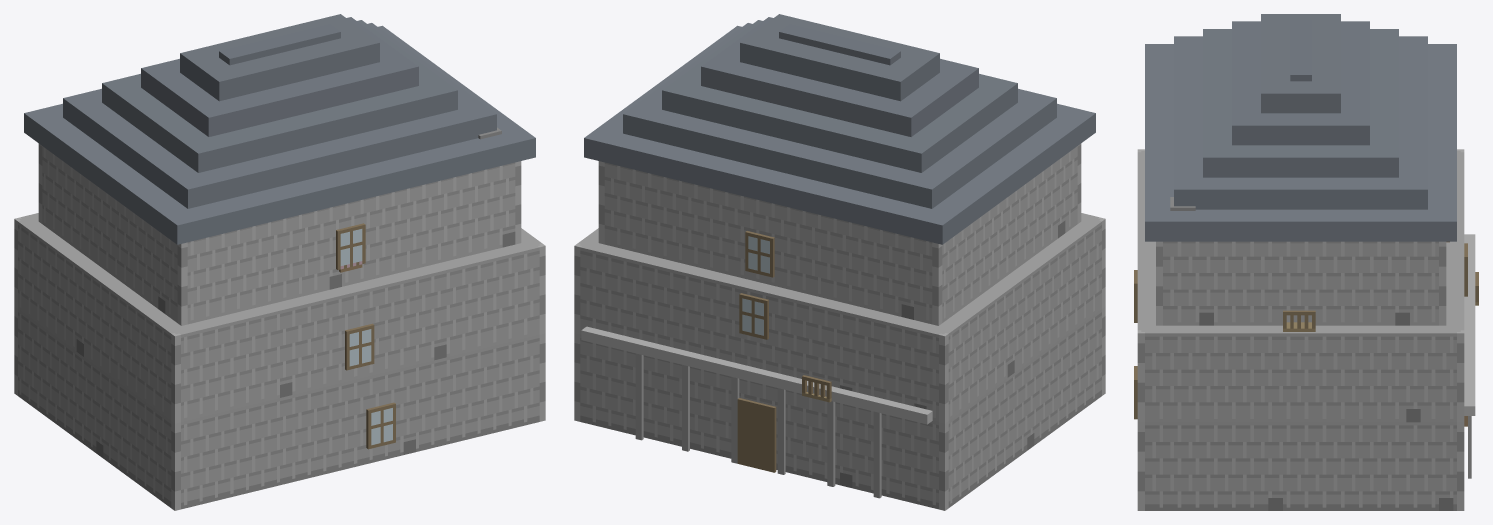
File: casa_noble_01.glb
3 views of the same model, side by side, from view 1: azimuth 30°, elevation 25°; view 2: azimuth 150°, elevation 25°; view 3: azimuth 270°, elevation 25° (orthographic).
Parts seen in each view (by area): view 1: casa_noble_01; view 2: casa_noble_01; view 3: casa_noble_01.
Part boxes in pixels (left/top/right/bottom): casa_noble_01: left=14, top=14, right=545, bottom=510; casa_noble_01: left=574, top=14, right=1105, bottom=510; casa_noble_01: left=1134, top=14, right=1478, bottom=510.
Size of the model in its own units: 12 by 11.3 by 9.5.
